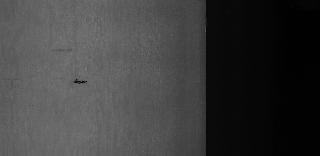inclusion: (70, 77, 90, 87)
silk spot: (73, 4, 105, 58)
